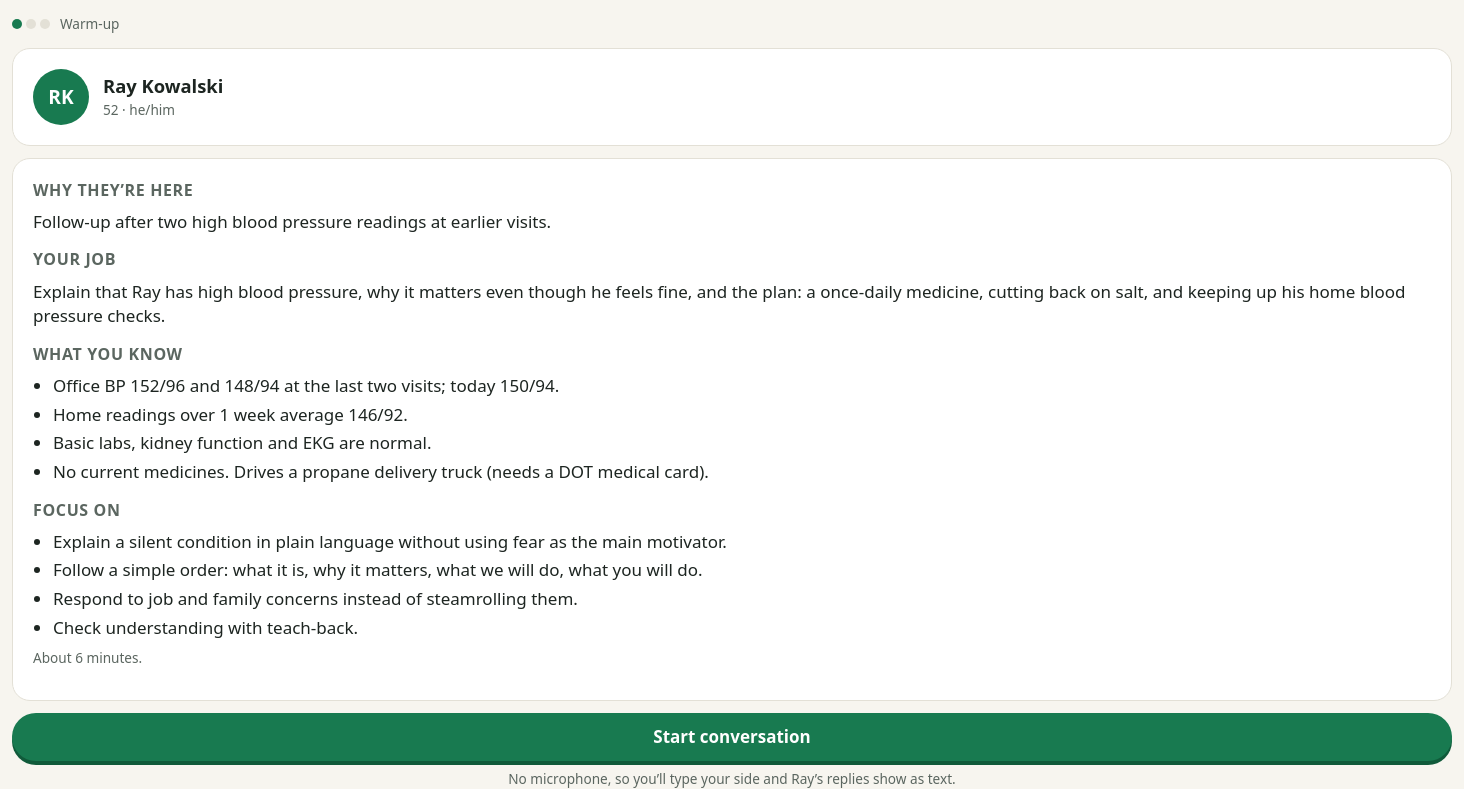
Scenario: Briefing › after Start: a spinner and “Preparing the room…” while the room is set up
This screenshot has width=1464, height=789.
(page scrolled)
Click the button "Start conversation" at (732,737), box [12,713,1452,761]
(page scrolled)
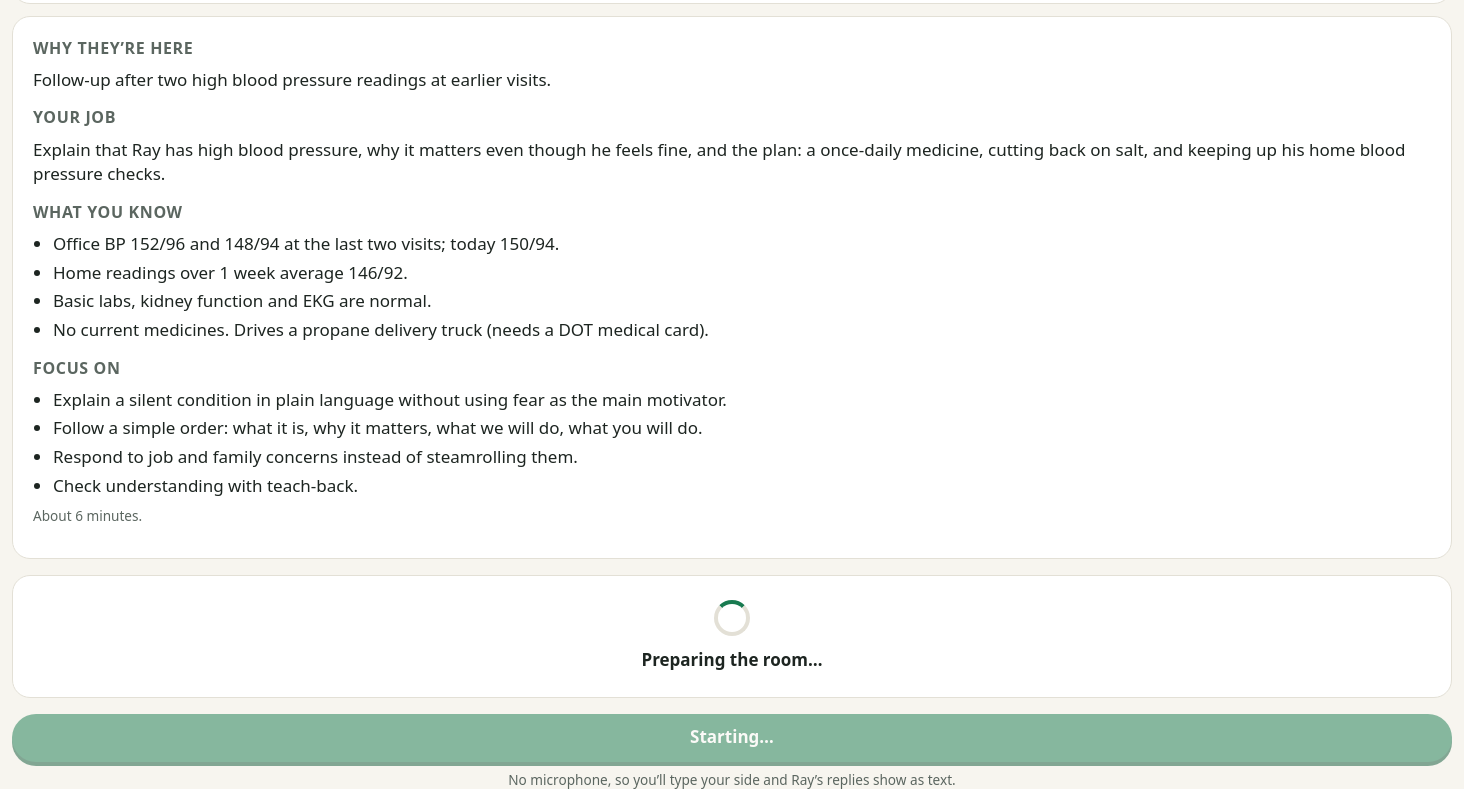
Expected: the message reads "Preparing the room…", [642,648,823,671]
Expected: the element with class "spinner" is shown, [714,600,750,636]
Expected: the button "Starting…" is disabled, [12,714,1452,762]
